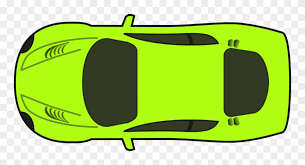car: (22, 16, 292, 149)
